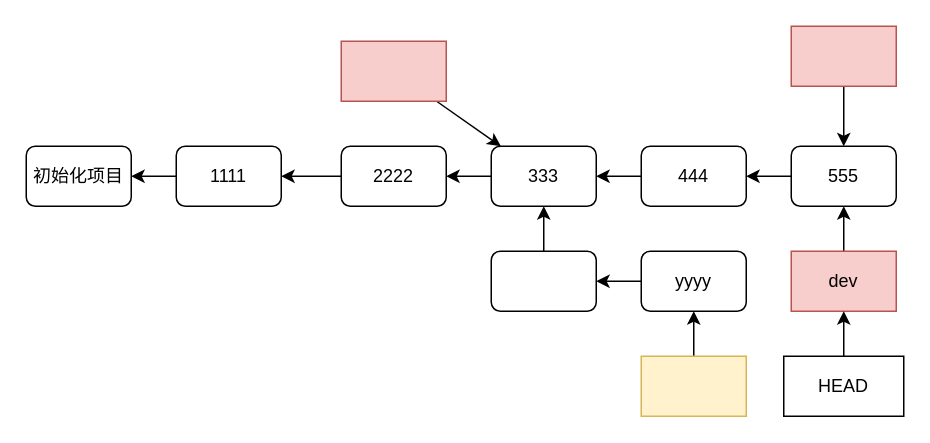
This 930x443 diagram has some shape labels left out. Here are the shapes that lost their labels. From the top down, the centre of each, then its label:
At [393,70]: "tag".
At [843,55]: "master".
At [543,280]: "xxx".
At [693,385]: "testing".
